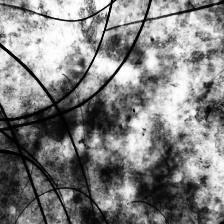Benign Marking or Mole: (63, 55, 175, 191)
